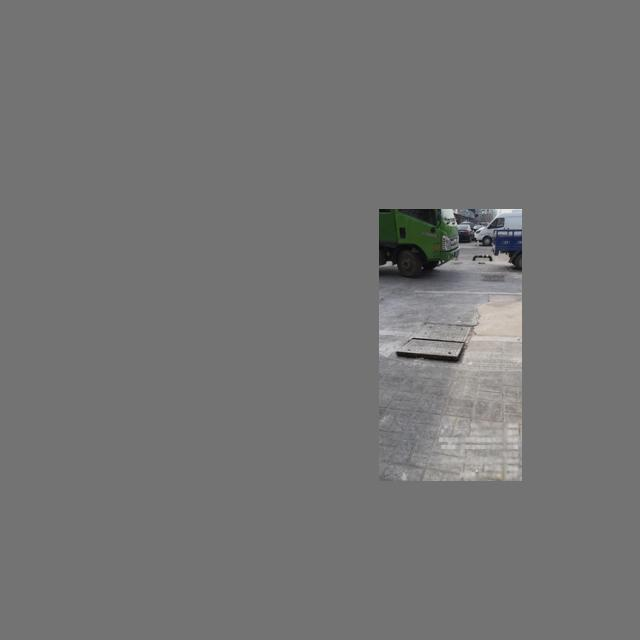uncovered: (396, 322, 473, 363)
